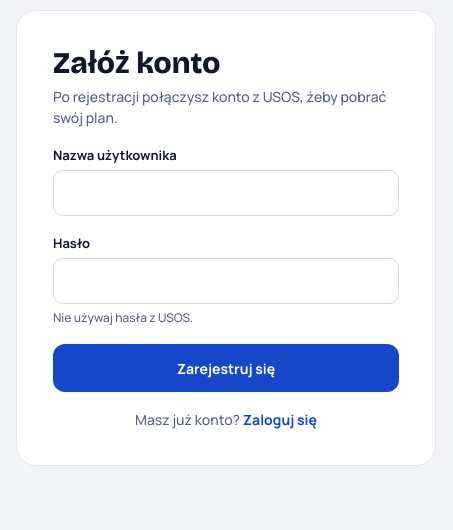
Test: Register › shows a friendly message when the username is taken
Type "ania" into the field labelled "Nazwa użytkownika" at (226, 193), box [53,170,399,216]
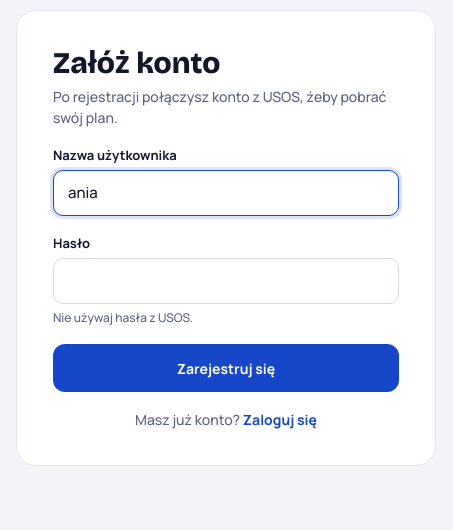
Type "haslo123" into the password field labelled "Hasło Nie używaj hasła z USOS." at (226, 281), box [53,258,399,304]
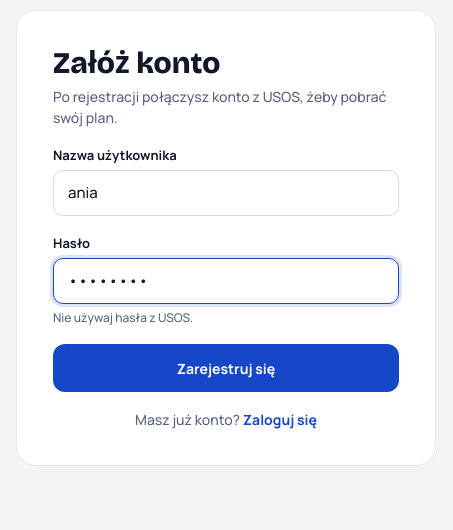
Click the button "Zarejestruj się" at (226, 368), box [53,344,399,392]
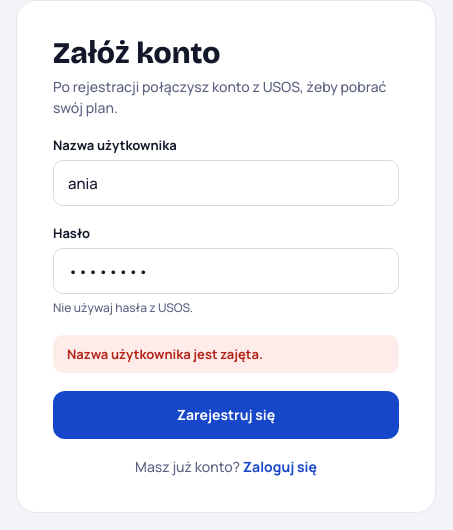
Check: the message reads "Nazwa użytkownika jest zajęta.", box [67,345,263,363]
